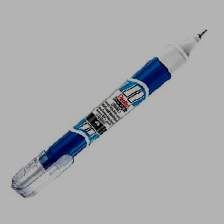correction_fluid: (9, 26, 210, 201)
